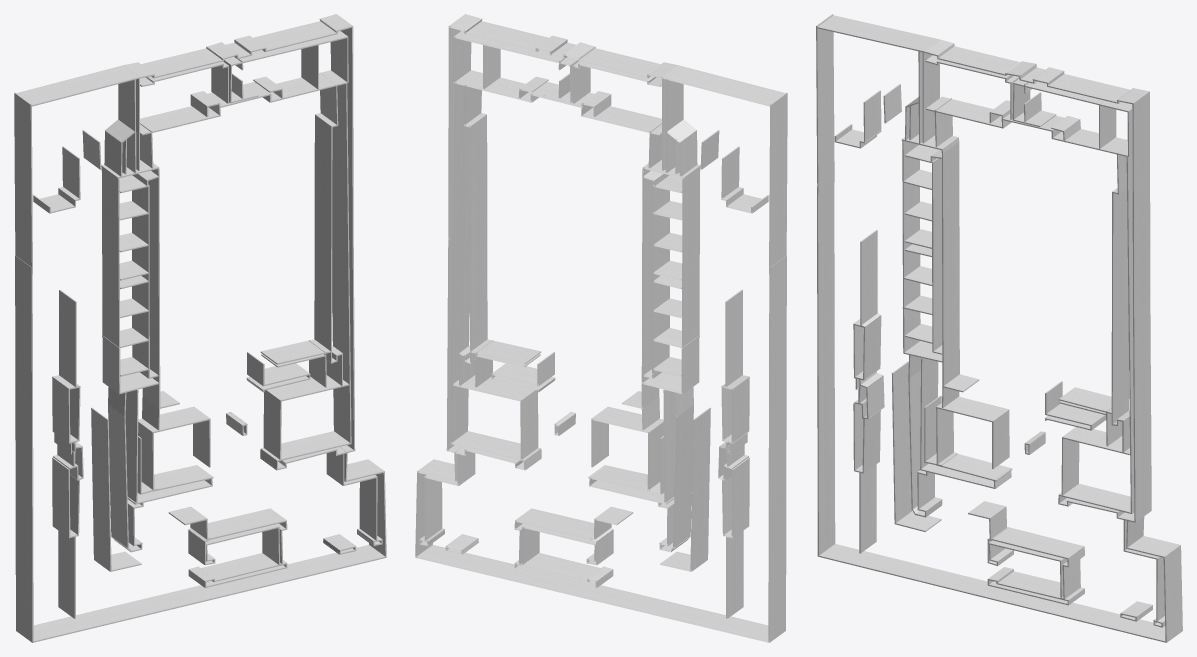
Rendered from wall_1.obj.
3 views of the same model, side by side, from view 1: azimuth 30°, elevation 25°; view 2: azimuth 150°, elevation 25°; view 3: azimuth 330°, elevation 25° (orthographic).
Parts seen in each view (by area): view 1: walls; view 2: walls; view 3: walls.
Part boxes in pixels (box(x1,y1,x2,y2)): walls: box(14, 14, 386, 642); walls: box(415, 14, 787, 642); walls: box(816, 14, 1182, 642).
Size of the model in its own units: 31.09 by 45.11 by 2.5.
